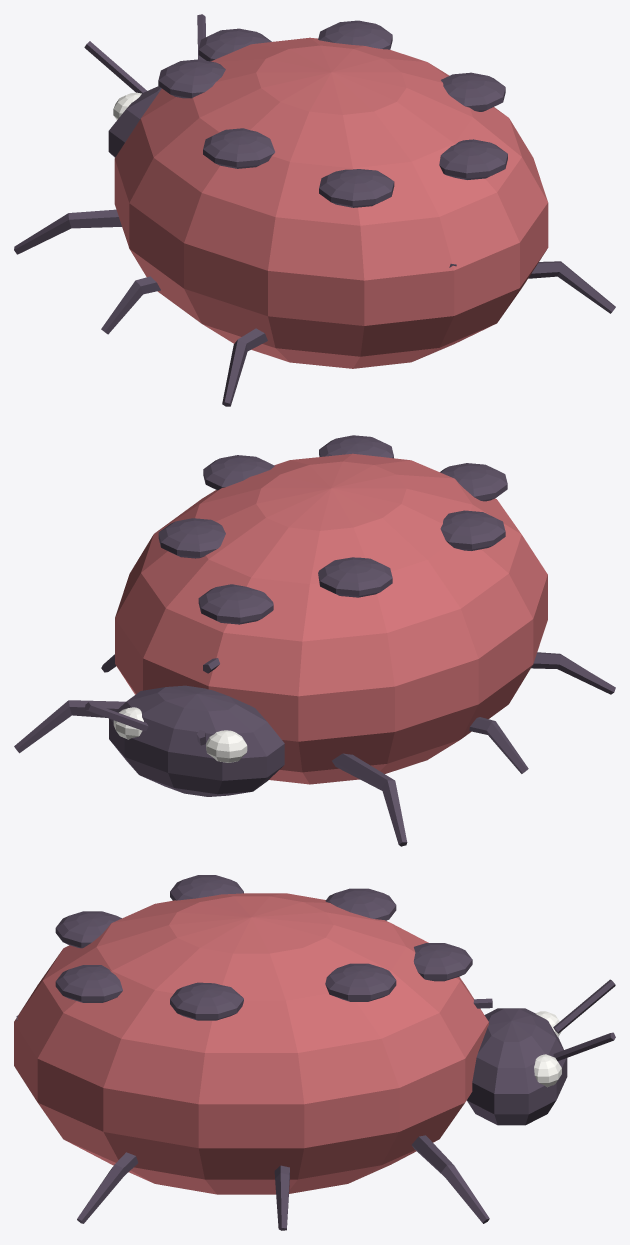
The model's file is Ladybug.fbx.
The picture shows the model from 3 angles, top to bottom: view 1: azimuth 30°, elevation 25°; view 2: azimuth 150°, elevation 25°; view 3: azimuth 270°, elevation 25°; orthographic projection. The views are drawn at different scales.
Parts seen in each view (by area): view 1: Critter_Ladybug; view 2: Critter_Ladybug; view 3: Critter_Ladybug.
Part boxes in pixels (x1=…): Critter_Ladybug: x1=14, y1=14, x2=615, y2=406; Critter_Ladybug: x1=14, y1=435, x2=615, y2=846; Critter_Ladybug: x1=14, y1=875, x2=615, y2=1230.
Size of the model in its own units: 0.7497 by 0.44 by 0.9488.
